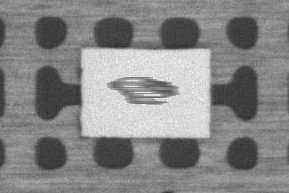DIE_INK: (105, 73, 178, 106)
